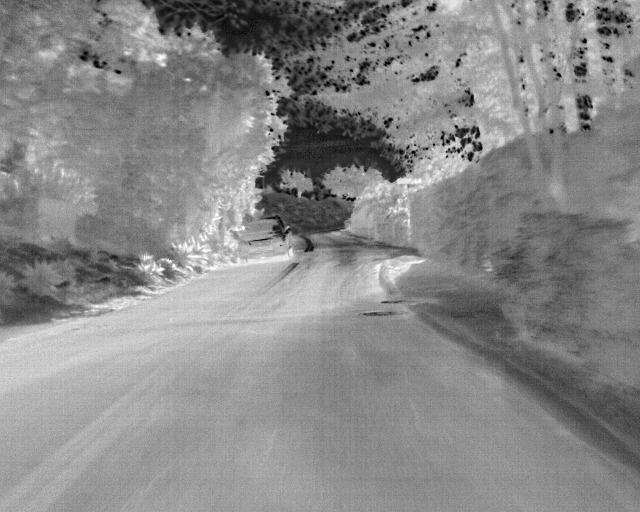car: (238, 214, 292, 264)
